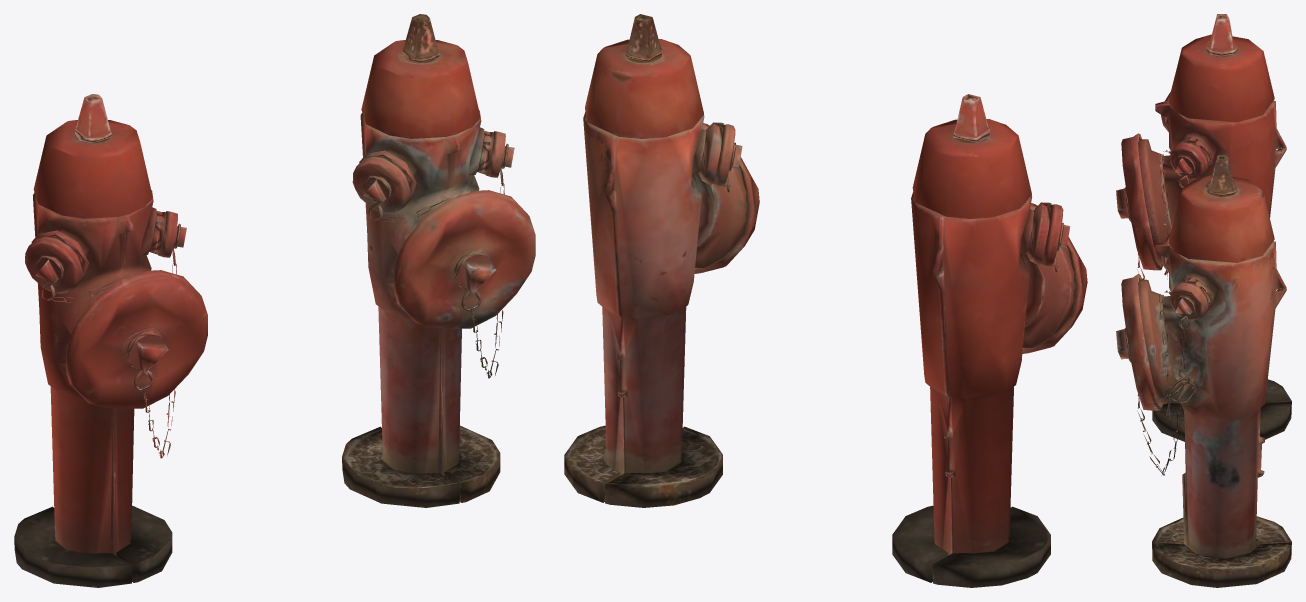
Rendered from fire_hydrant.glb.
The picture shows the model from 3 angles, left to right: view 1: azimuth 30°, elevation 25°; view 2: azimuth 150°, elevation 25°; view 3: azimuth 270°, elevation 25°; orthographic projection. The views are drawn at different scales.
Visible parts, largest first — view 1: fire_hydrant, fire_hydrant_aged, fire_hydrant_cap_01, fire_hydrant_cap_01_aged, fire_hydrant_cap_03_aged, fire_hydrant_cap_03, fire_hydrant_chain, fire_hydrant_chain_aged, fire_hydrant_cap_02, fire_hydrant_cap_02_aged; view 2: fire_hydrant_aged, fire_hydrant, fire_hydrant_cap_01_aged, fire_hydrant_cap_01, fire_hydrant_cap_03_aged, fire_hydrant_cap_03; view 3: fire_hydrant_aged, fire_hydrant, fire_hydrant_cap_01, fire_hydrant_cap_01_aged, fire_hydrant_chain_aged, fire_hydrant_cap_02_aged, fire_hydrant_cap_02, fire_hydrant_chain.
Part boxes in pixels (x1=…): fire_hydrant: x1=14, y1=94, x2=172, y2=587; fire_hydrant_aged: x1=342, y1=14, x2=500, y2=507; fire_hydrant_cap_01: x1=66, y1=270, x2=207, y2=408; fire_hydrant_cap_01_aged: x1=394, y1=190, x2=535, y2=328; fire_hydrant_cap_03_aged: x1=352, y1=155, x2=411, y2=213; fire_hydrant_cap_03: x1=25, y1=235, x2=83, y2=293; fire_hydrant_chain: x1=40, y1=226, x2=177, y2=458; fire_hydrant_chain_aged: x1=367, y1=147, x2=505, y2=378; fire_hydrant_cap_02: x1=158, y1=211, x2=186, y2=257; fire_hydrant_cap_02_aged: x1=486, y1=131, x2=514, y2=177; fire_hydrant_aged: x1=564, y1=14, x2=747, y2=507; fire_hydrant: x1=892, y1=94, x2=1075, y2=587; fire_hydrant_cap_01_aged: x1=694, y1=123, x2=759, y2=273; fire_hydrant_cap_01: x1=1022, y1=203, x2=1087, y2=353; fire_hydrant_cap_03_aged: x1=713, y1=124, x2=742, y2=186; fire_hydrant_cap_03: x1=1040, y1=204, x2=1070, y2=266; fire_hydrant_aged: x1=1139, y1=154, x2=1291, y2=587; fire_hydrant: x1=1139, y1=14, x2=1291, y2=441; fire_hydrant_cap_01: x1=1116, y1=133, x2=1162, y2=270; fire_hydrant_cap_01_aged: x1=1116, y1=274, x2=1162, y2=410; fire_hydrant_chain_aged: x1=1137, y1=290, x2=1196, y2=475; fire_hydrant_cap_02_aged: x1=1169, y1=282, x2=1208, y2=320; fire_hydrant_cap_02: x1=1169, y1=141, x2=1208, y2=180; fire_hydrant_chain: x1=1137, y1=150, x2=1190, y2=279.
Size of the model in its own units: 0.8742 by 0.7992 by 0.3173.
Materials: 2 (2 with a texture image).
